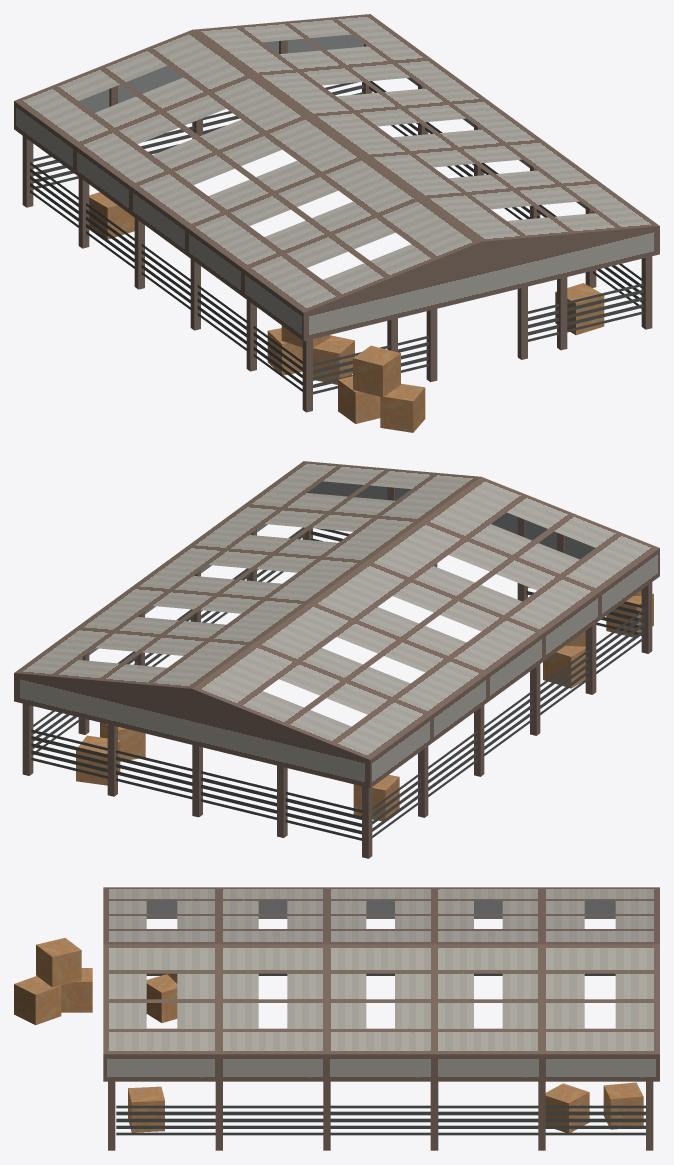
Rendered from Universal_Building_Farm_L2_01_Mod.fbx.
3 views of the same model, one above another, from view 1: azimuth 30°, elevation 25°; view 2: azimuth 150°, elevation 25°; view 3: azimuth 270°, elevation 25° (orthographic). The views are drawn at different scales.
Parts seen in each view (by area): view 1: Universal_Building_Farm_L2_01_Mod; view 2: Universal_Building_Farm_L2_01_Mod; view 3: Universal_Building_Farm_L2_01_Mod.
Boxes of the visible parts, x1,y1,x2,y2 form: Universal_Building_Farm_L2_01_Mod: (14, 14, 659, 432); Universal_Building_Farm_L2_01_Mod: (14, 461, 659, 858); Universal_Building_Farm_L2_01_Mod: (14, 887, 659, 1150).
Size of the model in its own units: 1177 by 411 by 1922.
